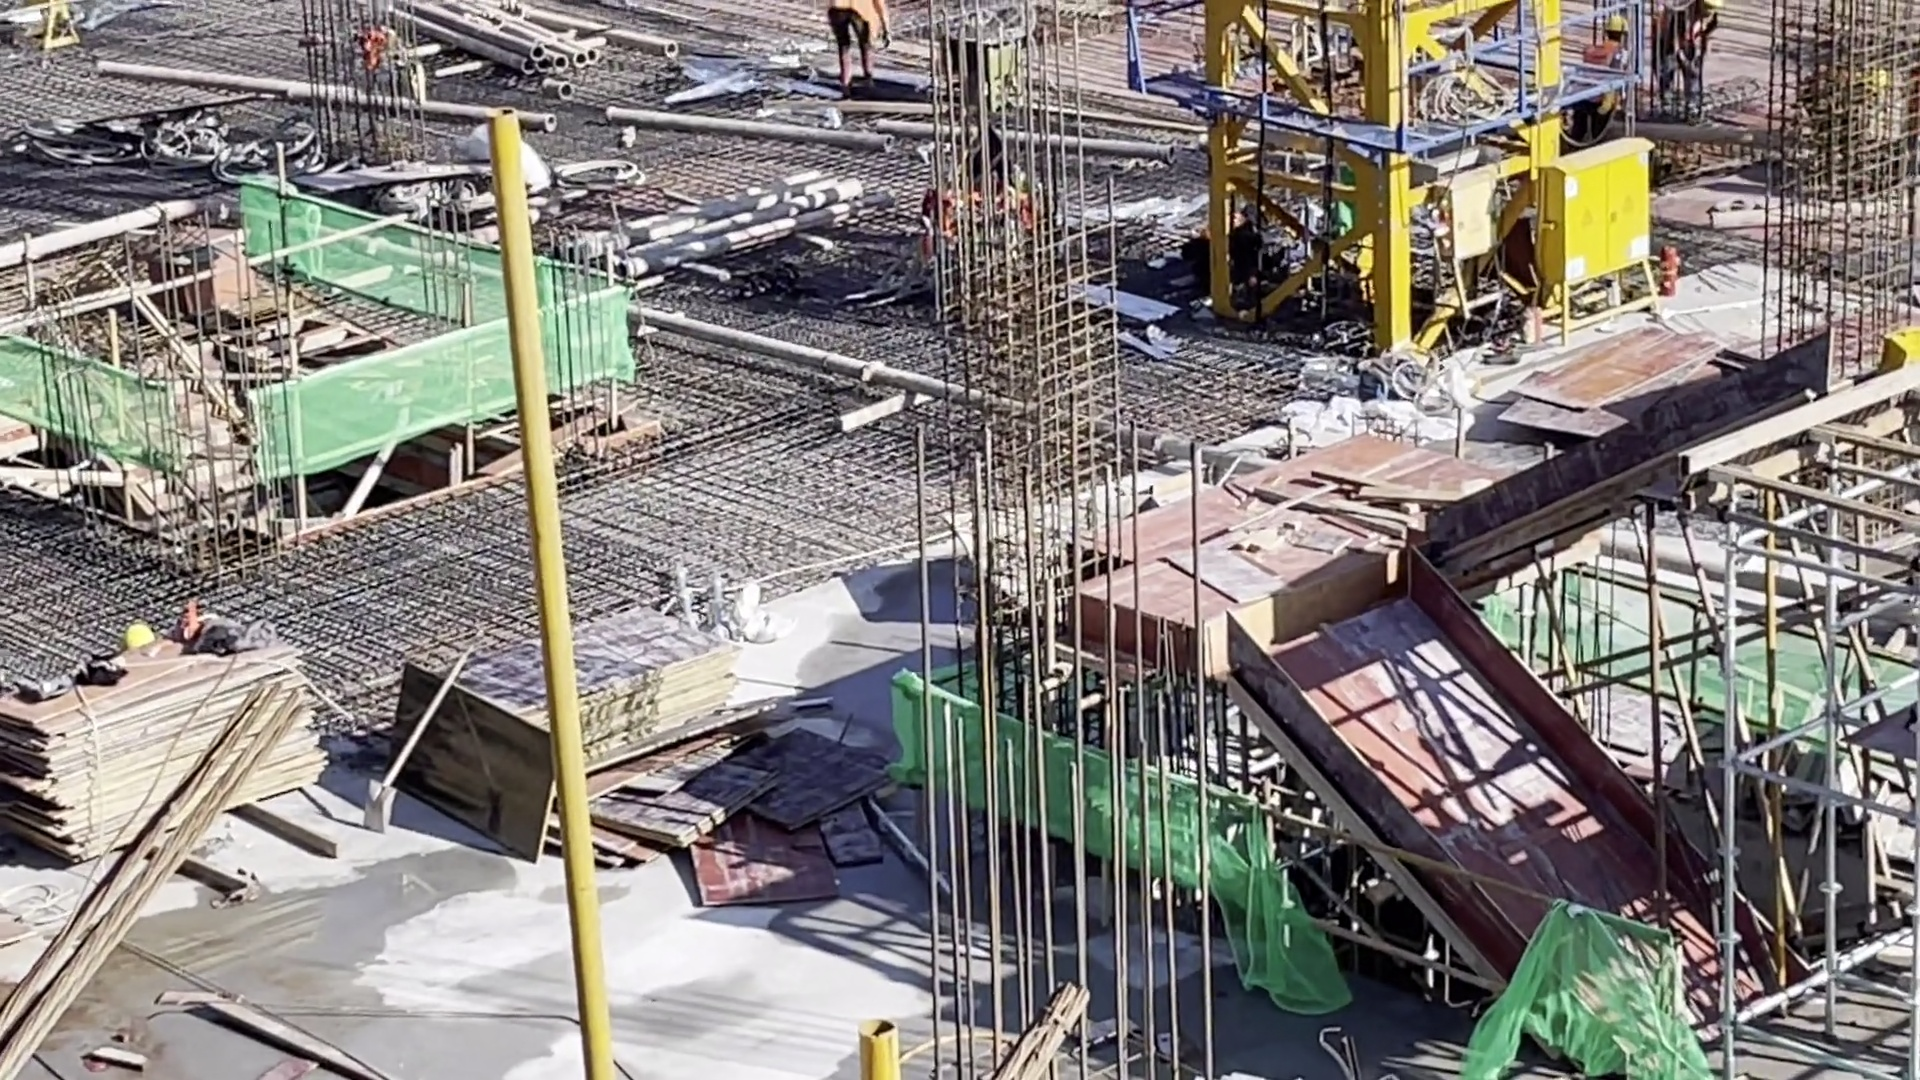board: (1, 617, 328, 875), (432, 603, 748, 794)
ebox: (1532, 136, 1673, 336)
helmet: (121, 620, 154, 653), (1606, 16, 1625, 36)
person: (1582, 15, 1641, 127), (1671, 5, 1722, 123), (828, 1, 897, 89)
vest: (1581, 38, 1621, 68)
